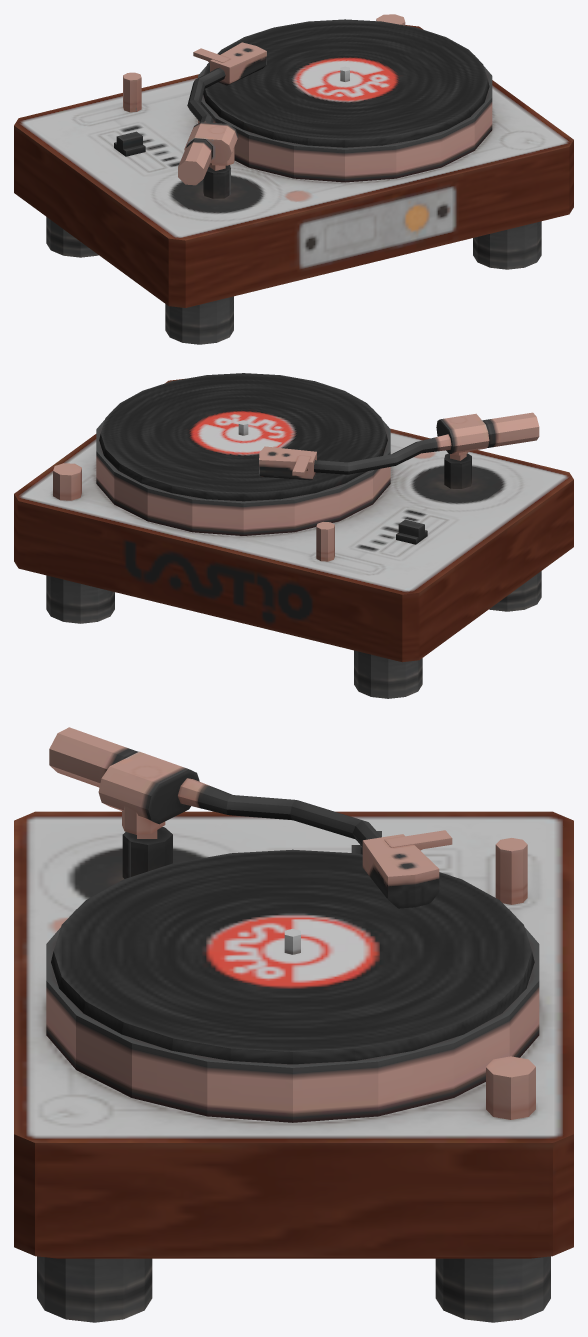
File: P_Turntable_001_S1_M05.obj
The picture shows the model from 3 angles, top to bottom: view 1: azimuth 30°, elevation 25°; view 2: azimuth 150°, elevation 25°; view 3: azimuth 270°, elevation 25°; orthographic projection. The views are drawn at different scales.
Size of the model in its own units: 0.7 by 0.2976 by 0.5.
3 materials, 3 textured.
